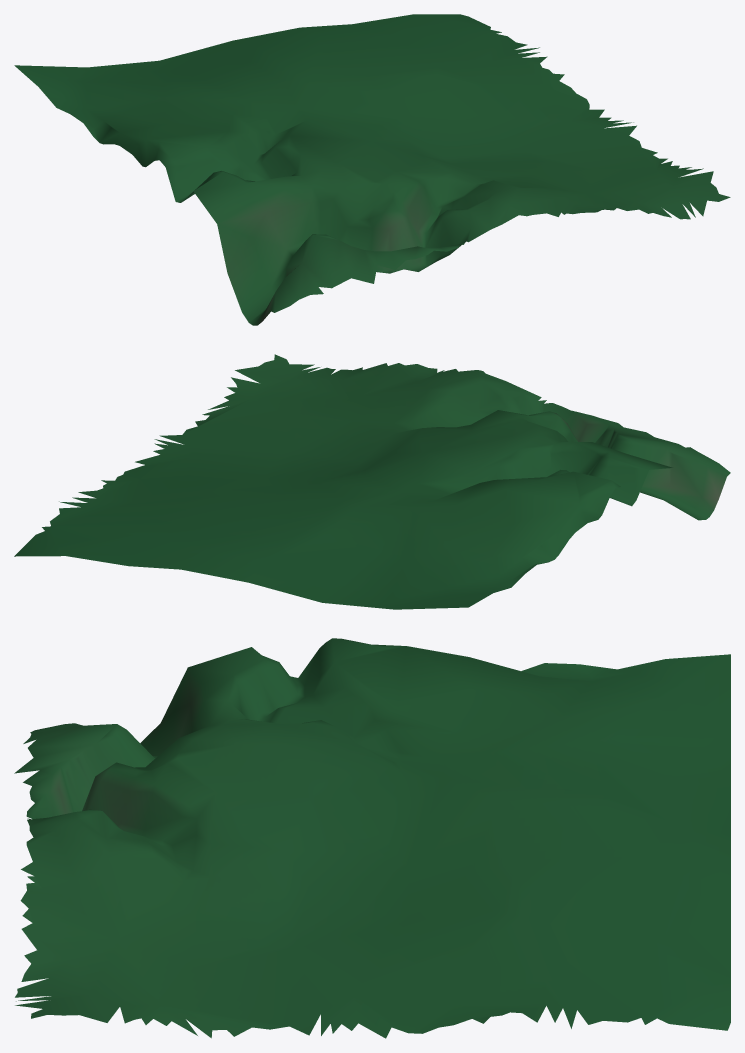
Rendered from payo_land_xm4_y4_lod2.glb.
3 views of the same model, one above another, from view 1: azimuth 30°, elevation 25°; view 2: azimuth 150°, elevation 25°; view 3: azimuth 270°, elevation 25° (orthographic). The views are drawn at different scales.
Parts seen in each view (by area): view 1: payo_land_xm4_y4; view 2: payo_land_xm4_y4; view 3: payo_land_xm4_y4.
Boxes of the visible parts, left/top/right/bottom form: payo_land_xm4_y4: left=14, top=14, right=730, bottom=325; payo_land_xm4_y4: left=14, top=354, right=730, bottom=609; payo_land_xm4_y4: left=14, top=638, right=730, bottom=1038.
Size of the model in its own units: 264 by 54.49 by 263.
